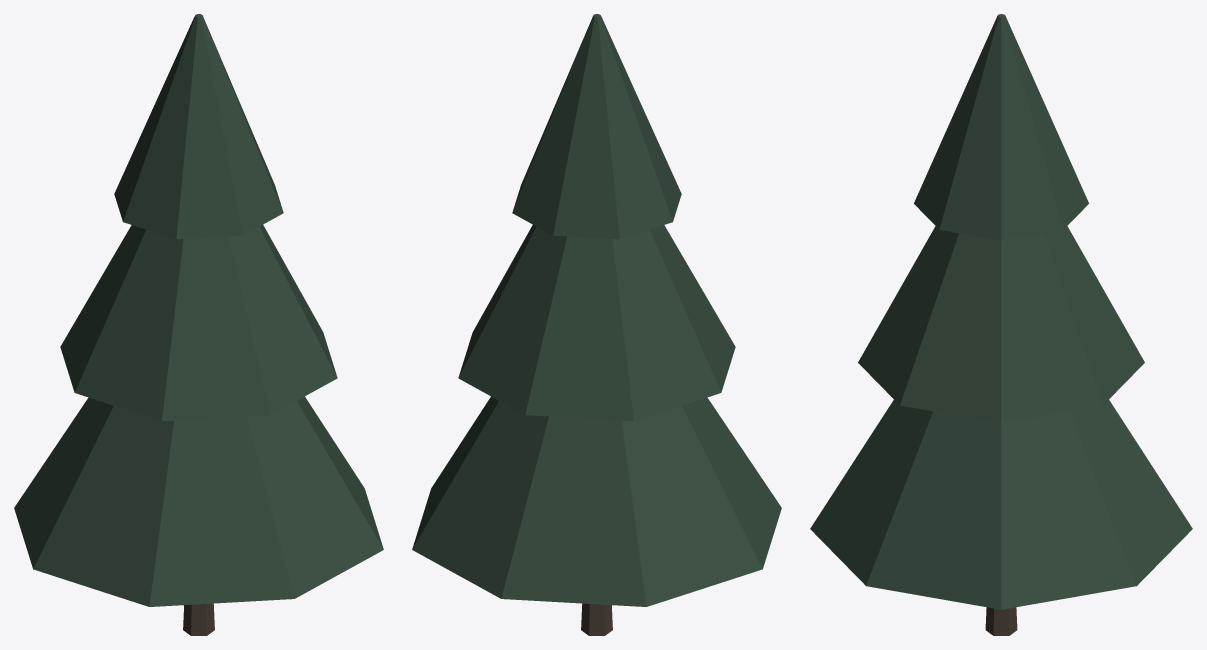
Rendered from tree_a.glb.
The picture shows the model from 3 angles, left to right: view 1: azimuth 30°, elevation 25°; view 2: azimuth 150°, elevation 25°; view 3: azimuth 270°, elevation 25°; orthographic projection.
Parts seen in each view (by area): view 1: crown, trunk; view 2: crown, trunk; view 3: crown, trunk.
Boxes of the visible parts, box(x1,y1,x2,y2) form: crown: box(14, 14, 383, 606); trunk: box(183, 603, 214, 635); crown: box(412, 14, 781, 606); trunk: box(581, 603, 612, 635); crown: box(810, 14, 1192, 609); trunk: box(985, 607, 1017, 635).
Bounding box in the file's own units: 4.8 × 8.5 × 4.8.
